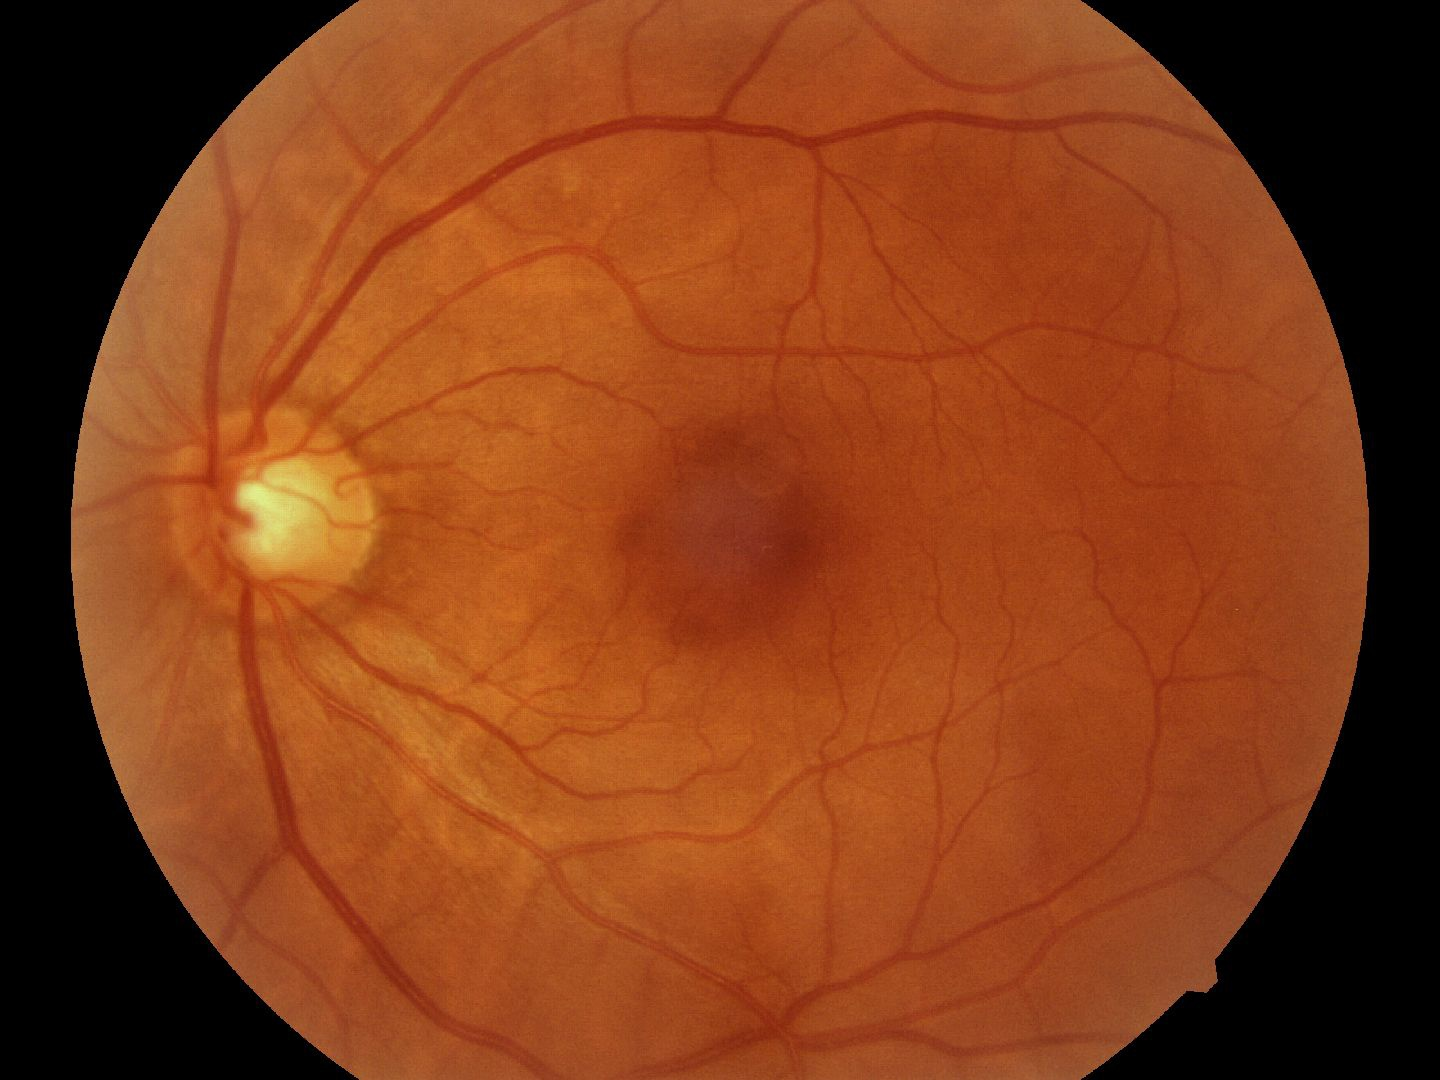Arterioles: (904, 643, 1217, 894)
Hemorrhages: (619, 402, 830, 646)
Optic-Disc: (144, 394, 381, 627)
Venules: (345, 93, 880, 174), (249, 690, 387, 971)
